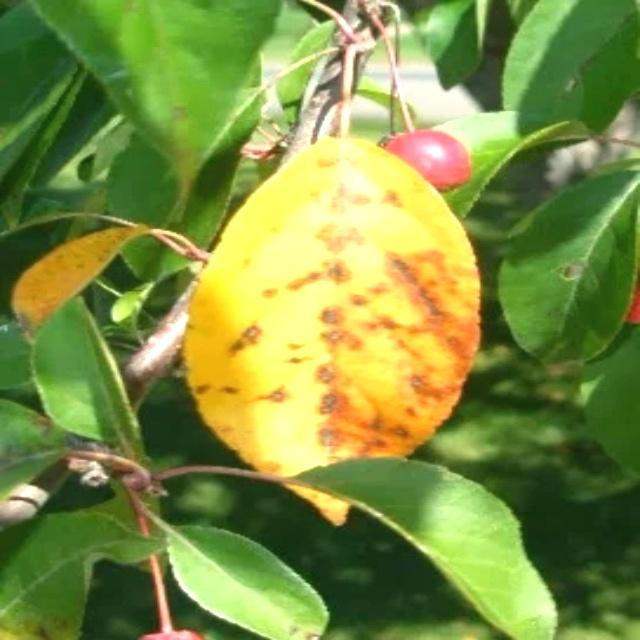leaf_spot: (173, 187, 489, 515)
shot_hole: (0, 384, 87, 534)
